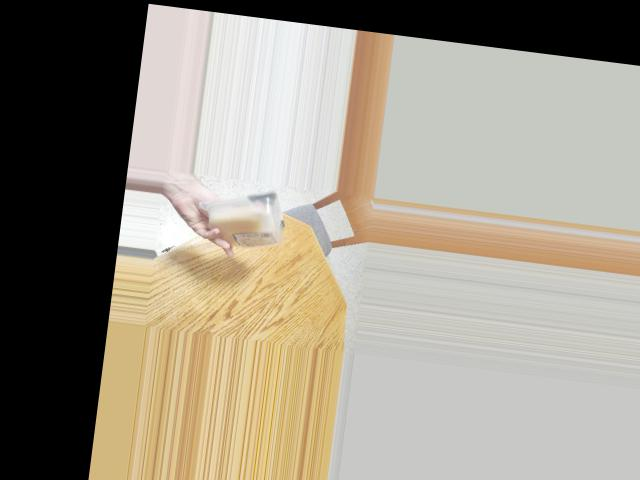cheese: (202, 185, 291, 256)
